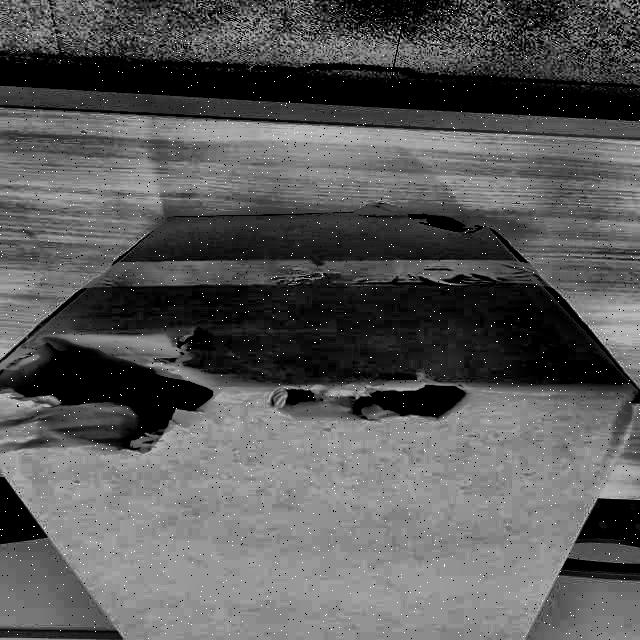box: (1, 205, 640, 640)
hole: (1, 338, 225, 452), (255, 372, 484, 424), (415, 211, 489, 239)
